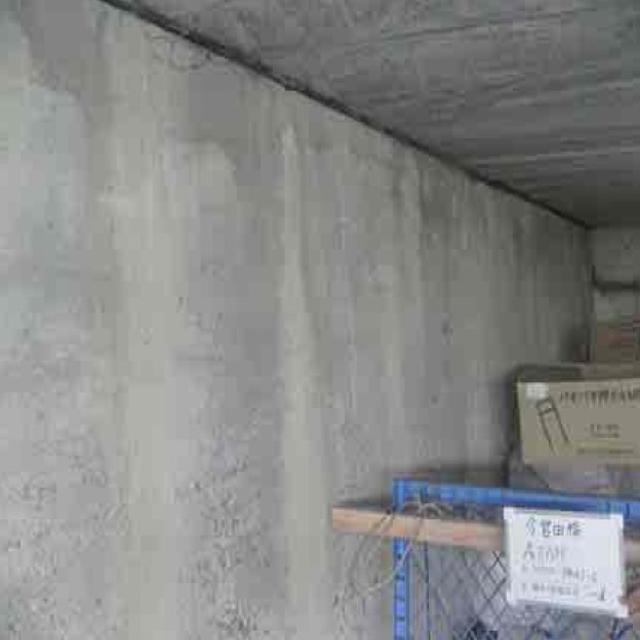freelime: (83, 80, 181, 617), (273, 126, 331, 593)
